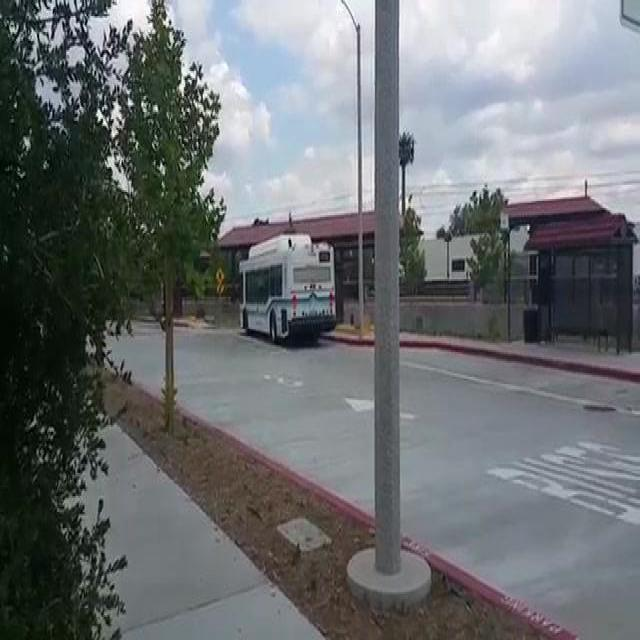motorcycle: (240, 238, 338, 334)
